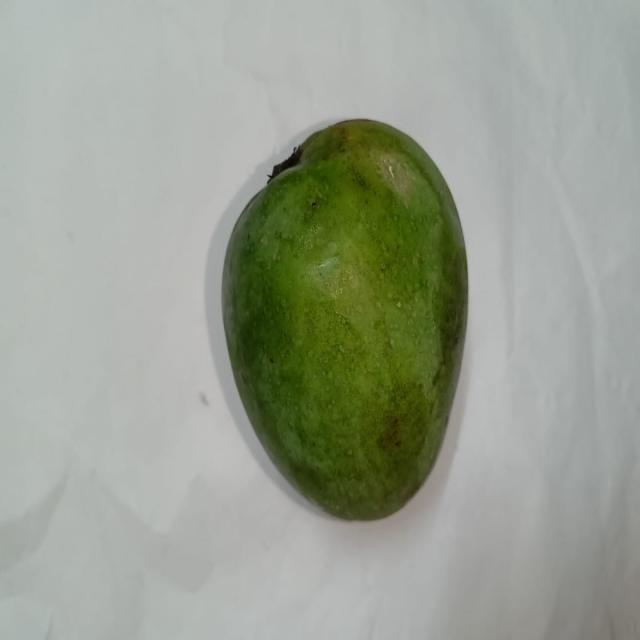rotten_mango: (218, 117, 469, 523)
